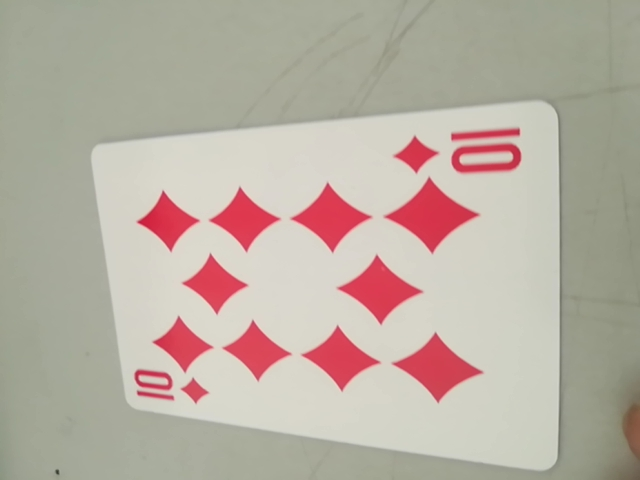fk 10: (396, 118, 534, 185), (128, 363, 216, 412)
